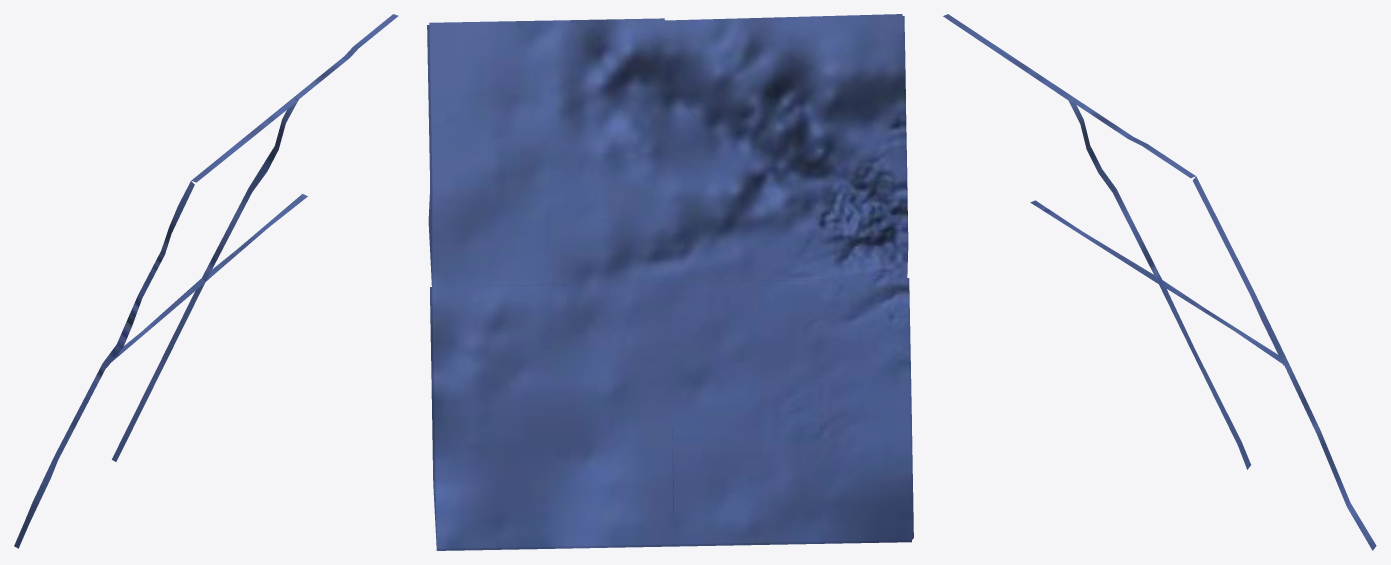
The picture shows the model from 3 angles, left to right: view 1: azimuth 30°, elevation 25°; view 2: azimuth 150°, elevation 25°; view 3: azimuth 270°, elevation 25°; orthographic projection. The views are drawn at different scales.
Size of the model in its own units: 38771 by 36202 by 33561.
1 material, 1 textured.
